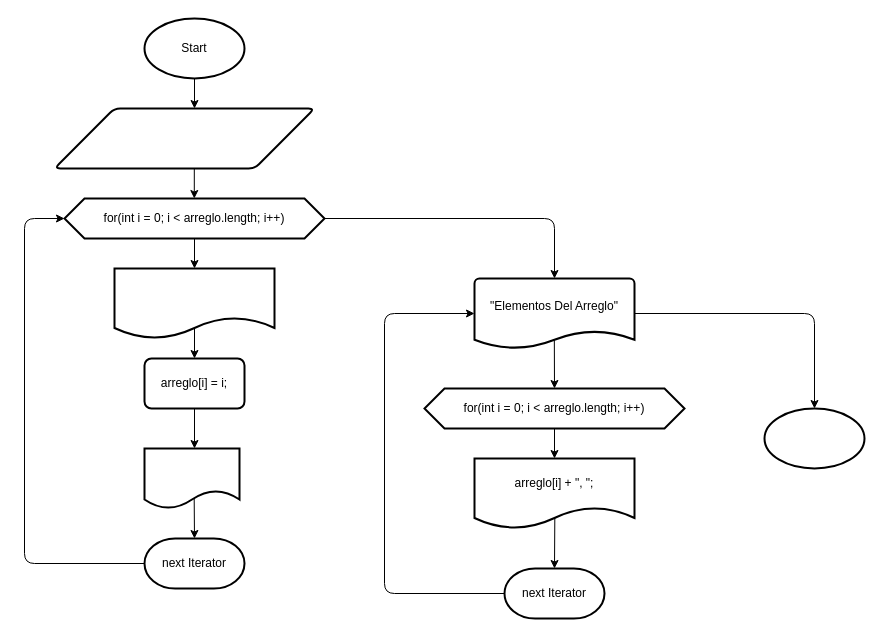
This 883x636 diagram has some shape labels left out. Here are the shapes that lost their labels. From the top down, the box of each, then its label:
(53, 107, 315, 169): int [] arreglo = new int[10];
(113, 267, 275, 339): "Arreglo["+i+"]";
(763, 407, 865, 469): End
(143, 447, 240, 509): " = "+ arreglo[i];
